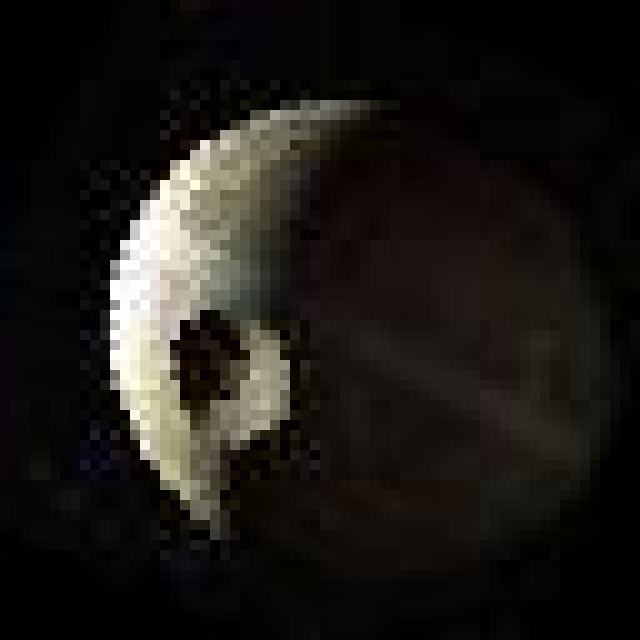Death Star: (117, 78, 627, 584)
